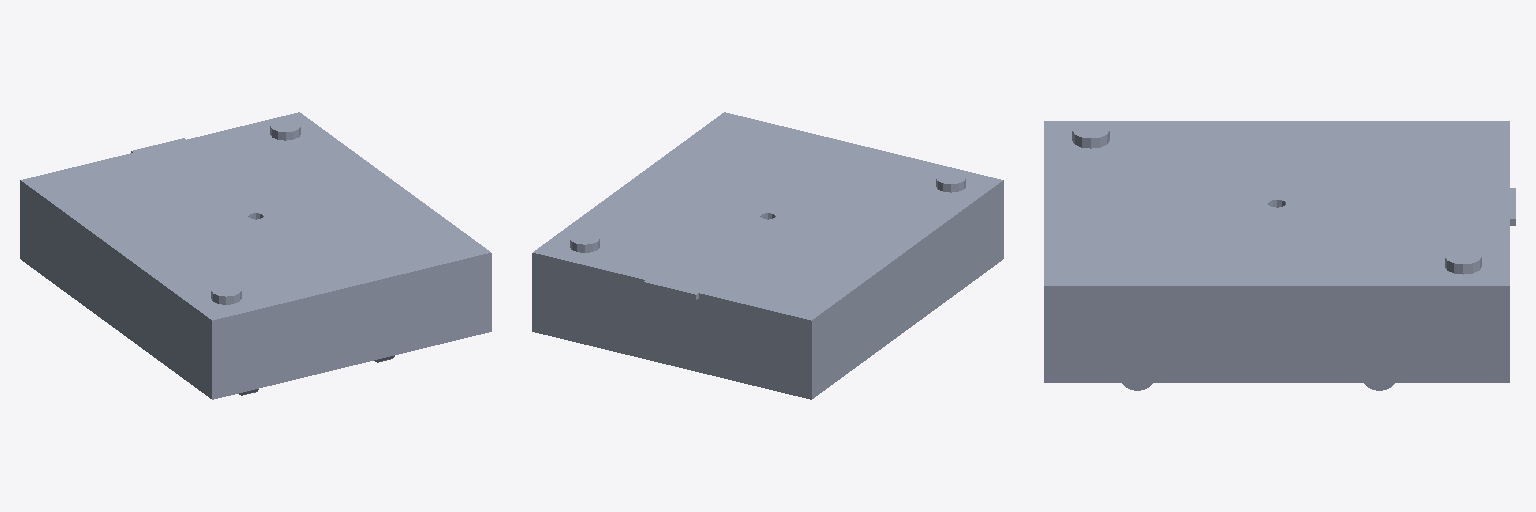
robot.urdf — agv_urdf_test:
<?xml version="1.0" encoding="utf-8"?>
<!-- This URDF was automatically created by SolidWorks to URDF Exporter! Originally created by [author] ([email redacted]) 
     Commit Version: 1.5.1-0-g916b5db  Build Version: 1.5.7152.31018
     For more information, please see http://wiki.ros.org/sw_urdf_exporter -->
<robot
  name="agv_urdf_test">
  <link
    name="base_footprint">
  </link>


  <link
    name="base_link">
    <inertial>
      <origin
        xyz="-5.5511E-17 0.00010136 -0.14206"
        rpy="0 0 0" />
      <mass
        value="1008.2" />
      <inertia
        ixx="138.54"
        ixy="-0.25447"
        ixz="-6.9968E-15"
        iyy="99.715"
        iyz="-0.013495"
        izz="224.59" />
    </inertial>
    <visual>
      <origin
        xyz="0 0 0"
        rpy="0 0 0" />
      <geometry>
        <mesh
          filename="package://agv_urdf_test/meshes/base_link.STL" />
      </geometry>
      <material
        name="">
        <color
          rgba="0.66667 0.69804 0.76863 1" />
      </material>
    </visual>
    <collision>
      <origin
        xyz="0 0 0"
        rpy="0 0 0" />
      <geometry>
        <mesh
          filename="package://agv_urdf_test/meshes/base_link.STL" />
      </geometry>
    </collision>
  </link>

  <joint
    name="foot2base"
    type="fixed">
    <origin
      xyz="0 0 0.424"
      rpy="0 0 0" />
    <parent
      link="base_footprint" />
    <child
      link="base_link" />
  </joint>


  <link
    name="link_turn_1">
    <inertial>
      <origin
        xyz="0 -0.00754548277678047 -0.0213159751755339"
        rpy="0 0 0" />
      <mass
        value="1.47494740855069" />
      <inertia
        ixx="0.00254146137858192"
        ixy="-4.23346898216741E-19"
        ixz="-8.68618256384801E-19"
        iyy="0.00245958671333262"
        iyz="-0.000636770311897843"
        izz="0.00210254911295901" />
    </inertial>
    <visual>
      <origin
        xyz="0 0 0"
        rpy="0 0 0" />
      <geometry>
        <mesh
          filename="package://agv_urdf_test/meshes/link_turn_1.STL" />
      </geometry>
      <material
        name="">
        <color
          rgba="0.666666666666667 0.698039215686274 0.768627450980392 1" />
      </material>
    </visual>
    <collision>
      <origin
        xyz="0 0 0"
        rpy="0 0 0" />
      <geometry>
        <mesh
          filename="package://agv_urdf_test/meshes/link_turn_1.STL" />
      </geometry>
    </collision>
  </link>
  <joint
    name="joint_turn_1"
    type="revolute">
    <origin
      xyz="0.255 0.325 -0.285"
      rpy="0 0 0" />
    <parent
      link="base_link" />
    <child
      link="link_turn_1" />
    <axis
      xyz="0 0 1" />
    <limit
      lower="-6.28"
      upper="6.28"
      effort="3"
      velocity="4" />
  </joint>
  <link
    name="link_wheel_1">
    <inertial>
      <origin
        xyz="0 0 -5.55111512312578E-17"
        rpy="0 0 0" />
      <mass
        value="1.01787601976309" />
      <inertia
        ixx="0.000873676916963323"
        ixy="-1.06033568536788E-21"
        ixz="-1.33407689192552E-20"
        iyy="0.000873676916963323"
        iyz="1.15391695451149E-22"
        izz="0.00132323882569202" />
    </inertial>
    <visual>
      <origin
        xyz="0 0 0"
        rpy="0 0 0" />
      <geometry>
        <mesh
          filename="package://agv_urdf_test/meshes/link_wheel_1.STL" />
      </geometry>
      <material
        name="">
        <color
          rgba="0.666666666666667 0.698039215686274 0.768627450980392 1" />
      </material>
    </visual>
    <collision>
      <origin
        xyz="0 0 0"
        rpy="0 0 0" />
      <geometry>
        <mesh
          filename="package://agv_urdf_test/meshes/link_wheel_1.STL" />
      </geometry>
    </collision>
  </link>
  <joint
    name="joint_wheel_1"
    type="continuous">
    <origin
      xyz="0 -0.05 -0.089"
      rpy="3.1416 -1.5708 0" />
    <parent
      link="link_turn_1" />
    <child
      link="link_wheel_1" />
    <axis
      xyz="0 0 1" />
  </joint>


  <link
    name="link_turn_2">
    <inertial>
      <origin
        xyz="-2.77555756156289E-17 -0.00754548277678047 -0.0213159751755338"
        rpy="0 0 0" />
      <mass
        value="1.47494740855068" />
      <inertia
        ixx="0.00254146137858192"
        ixy="-9.71710559422037E-20"
        ixz="-1.22074755057763E-19"
        iyy="0.00245958671333262"
        iyz="-0.000636770311897842"
        izz="0.00210254911295901" />
    </inertial>
    <visual>
      <origin
        xyz="0 0 0"
        rpy="0 0 0" />
      <geometry>
        <mesh
          filename="package://agv_urdf_test/meshes/link_turn_2.STL" />
      </geometry>
      <material
        name="">
        <color
          rgba="0.666666666666667 0.698039215686274 0.768627450980392 1" />
      </material>
    </visual>
    <collision>
      <origin
        xyz="0 0 0"
        rpy="0 0 0" />
      <geometry>
        <mesh
          filename="package://agv_urdf_test/meshes/link_turn_2.STL" />
      </geometry>
    </collision>
  </link>


  <joint
    name="joint_turn_2"
    type="continuous">
    <origin
      xyz="-0.255 0.325 -0.285"
      rpy="0 0 0" />
    <parent
      link="base_link" />
    <child
      link="link_turn_2" />
    <axis
      xyz="0 0 1" />

  </joint>


  <link
    name="link_wheel_2">
    <inertial>
      <origin
        xyz="0 0 -2.77555756156289E-17"
        rpy="0 0 0" />
      <mass
        value="1.01787601976309" />
      <inertia
        ixx="0.000873676916963321"
        ixy="-1.73372789316957E-35"
        ixz="2.99880353866197E-20"
        iyy="0.000873676916963321"
        iyz="-8.17599343235721E-21"
        izz="0.00132323882569202" />
    </inertial>
    <visual>
      <origin
        xyz="0 0 0"
        rpy="0 0 0" />
      <geometry>
        <mesh
          filename="package://agv_urdf_test/meshes/link_wheel_2.STL" />
      </geometry>
      <material
        name="">
        <color
          rgba="0.666666666666667 0.698039215686274 0.768627450980392 1" />
      </material>
    </visual>
    <collision>
      <origin
        xyz="0 0 0"
        rpy="0 0 0" />
      <geometry>
        <mesh
          filename="package://agv_urdf_test/meshes/link_wheel_2.STL" />
      </geometry>
    </collision>
  </link>


  <joint
    name="joint_wheel_2"
    type="continuous">
    <origin
      xyz="0 -0.05 -0.089"
      rpy="3.1416 -1.5708 0" />
    <parent
      link="link_turn_2" />
    <child
      link="link_wheel_2" />
    <axis
      xyz="0 0 1" />
  </joint>


  <link
    name="link_turn_3">
    <inertial>
      <origin
        xyz="2.77555756156289E-17 -0.00754548277678041 -0.0213159751755339"
        rpy="0 0 0" />
      <mass
        value="1.47494740855069" />
      <inertia
        ixx="0.00254146137858192"
        ixy="-7.22413476028742E-20"
        ixz="-3.56292043880931E-19"
        iyy="0.00245958671333263"
        iyz="-0.000636770311897843"
        izz="0.00210254911295901" />
    </inertial>
    <visual>
      <origin
        xyz="0 0 0"
        rpy="0 0 0" />
      <geometry>
        <mesh
          filename="package://agv_urdf_test/meshes/link_turn_3.STL" />
      </geometry>
      <material
        name="">
        <color
          rgba="0.666666666666667 0.698039215686274 0.768627450980392 1" />
      </material>
    </visual>
    <collision>
      <origin
        xyz="0 0 0"
        rpy="0 0 0" />
      <geometry>
        <mesh
          filename="package://agv_urdf_test/meshes/link_turn_3.STL" />
      </geometry>
    </collision>
  </link>


  <joint
    name="joint_turn_3"
    type="revolute">
    <origin
      xyz="-0.255 -0.325 -0.285"
      rpy="0 0 0" />
    <parent
      link="base_link" />
    <child
      link="link_turn_3" />
    <axis
      xyz="0 0 1" />
    <limit
      lower="-6.28"
      upper="6.28"
      effort="3"
      velocity="4" />
  </joint>


  <link
    name="link_wheel_3">
    <inertial>
      <origin
        xyz="-2.77555756156289E-17 -5.55111512312578E-17 0"
        rpy="0 0 0" />
      <mass
        value="1.01787601976309" />
      <inertia
        ixx="0.000873676916963321"
        ixy="2.18468823661567E-35"
        ixz="-3.09409474522808E-20"
        iyy="0.000873676916963321"
        iyz="1.41258674169349E-20"
        izz="0.00132323882569202" />
    </inertial>
    <visual>
      <origin
        xyz="0 0 0"
        rpy="0 0 0" />
      <geometry>
        <mesh
          filename="package://agv_urdf_test/meshes/link_wheel_3.STL" />
      </geometry>
      <material
        name="">
        <color
          rgba="0.666666666666667 0.698039215686274 0.768627450980392 1" />
      </material>
    </visual>
    <collision>
      <origin
        xyz="0 0 0"
        rpy="0 0 0" />
      <geometry>
        <mesh
          filename="package://agv_urdf_test/meshes/link_wheel_3.STL" />
      </geometry>
    </collision>
  </link>


  <joint
    name="joint_wheel_3"
    type="continuous">
    <origin
      xyz="0 -0.05 -0.089"
      rpy="3.1416 -1.5708 0" />
    <parent
      link="link_turn_3" />
    <child
      link="link_wheel_3" />
    <axis
      xyz="0 0 1" />
  </joint>
  <link
    name="link_turn_4">
    <inertial>
      <origin
        xyz="-5.55111512312578E-17 -0.00754548277678041 -0.0213159751755338"
        rpy="0 0 0" />
      <mass
        value="1.47494740855068" />
      <inertia
        ixx="0.00254146137858191"
        ixy="-2.62093789241471E-19"
        ixz="-5.85418017498676E-19"
        iyy="0.00245958671333262"
        iyz="-0.000636770311897841"
        izz="0.00210254911295901" />
    </inertial>
    <visual>
      <origin
        xyz="0 0 0"
        rpy="0 0 0" />
      <geometry>
        <mesh
          filename="package://agv_urdf_test/meshes/link_turn_4.STL" />
      </geometry>
      <material
        name="">
        <color
          rgba="0.666666666666667 0.698039215686274 0.768627450980392 1" />
      </material>
    </visual>
    <collision>
      <origin
        xyz="0 0 0"
        rpy="0 0 0" />
      <geometry>
        <mesh
          filename="package://agv_urdf_test/meshes/link_turn_4.STL" />
      </geometry>
    </collision>
  </link>


  <joint
    name="joint_turn_4"
    type="continuous">
    <origin
      xyz="0.255 -0.325 -0.285"
      rpy="0 0 0" />
    <parent
      link="base_link" />
    <child
      link="link_turn_4" />
    <axis
      xyz="0 0 1" />

  </joint>


  <link
    name="link_wheel_4">
    <inertial>
      <origin
        xyz="2.77555756156289E-17 5.55111512312578E-17 6.66133814775094E-16"
        rpy="0 0 0" />
      <mass
        value="1.01787601976309" />
      <inertia
        ixx="0.000873676916963323"
        ixy="8.09870282638803E-39"
        ixz="2.56966349121739E-20"
        iyy="0.000873676916963323"
        iyz="-2.66366335959442E-36"
        izz="0.00132323882569202" />
    </inertial>
    <visual>
      <origin
        xyz="0 0 0"
        rpy="0 0 0" />
      <geometry>
        <mesh
          filename="package://agv_urdf_test/meshes/link_wheel_4.STL" />
      </geometry>
      <material
        name="">
        <color
          rgba="0.666666666666667 0.698039215686274 0.768627450980392 1" />
      </material>
    </visual>
    <collision>
      <origin
        xyz="0 0 0"
        rpy="0 0 0" />
      <geometry>
        <mesh
          filename="package://agv_urdf_test/meshes/link_wheel_4.STL" />
      </geometry>
    </collision>
  </link>


  <joint
    name="joint_wheel_4"
    type="continuous">
    <origin
      xyz="0 -0.05 -0.089"
      rpy="3.1416 -1.5708 0" />
    <parent
      link="link_turn_4" />
    <child
      link="link_wheel_4" />
    <axis
      xyz="0 0 1" />
  </joint>


  <link
    name="link_laser_1">
  </link>

  <joint
    name="joint_laser_1"
    type="fixed">
    <origin
      xyz="0.4 0.5 0.03"
      rpy="0 0 1.5708" />
    <parent
      link="base_link" />
    <child
      link="link_laser_1" />
  </joint>

  <link
    name="link_laser_2">
  </link>
  <joint
    name="joint_laser_2"
    type="fixed">
    <origin
      xyz="-0.4 -0.5 0.03"
      rpy="0 0 1.5708" />
    <parent
      link="base_link" />
    <child
      link="link_laser_2" />
  </joint>


  <link
    name="link_camera">
  </link>

  <link name="camera_link_fake">
  </link>



  <joint
    name="joint_camera"
    type="fixed">
    <origin
      xyz="0 0.64 -0.01"
      rpy="0 0 1.5708" />
    <parent
      link="base_link" />
    <child
      link="link_camera" />
  </joint>

  <joint name="camera_joint_fake" type="fixed">
    <origin xyz="0 0 0" rpy="-1.5708 0 -1.5708 "/>
    <parent link="link_camera"/>
    <child link="camera_link_fake"/>
  </joint>

  <gazebo>
    <plugin name="gazebo_ros_control" filename="libgazebo_ros_control.so">
      <robotNamespace>/agv_sim</robotNamespace>
    </plugin>
  </gazebo>




  <gazebo>
    <plugin name="base_controller" filename="libgazebo_ros_planar_move.so">
      <commandTopic>/cmd_vel</commandTopic>
      <odometryTopic>odom</odometryTopic>
      <odometryFrame>odom</odometryFrame>
      <odometryRate>20.0</odometryRate>
      <robotBaseFrame>base_footprint</robotBaseFrame>
    </plugin>
  </gazebo>



  <gazebo reference="link_camera">
    <sensor type="depth" name="kinect_camera">
      <always_on>true</always_on>
      <update_rate>20.0</update_rate>
      <camera>
        <horizontal_fov>1.0472</horizontal_fov>
        <image>
          <format>R8G8B8</format>
          <width>640</width>
          <height>480</height>
        </image>
        <clip>
          <near>0.5</near>
          <far>8.0</far>
        </clip>
  </camera>



  <plugin name="kinect_camera_controller" filename="libgazebo_ros_openni_kinect.so">
    <cameraName>/kinect_camera</cameraName>
    <alwaysOn>true</alwaysOn>
    <updateRate>10</updateRate>
    <imageTopicName>rgb/image_raw</imageTopicName>
    <depthImageTopicName>depth/image_raw</depthImageTopicName>
    <pointCloudTopicName>depth/points</pointCloudTopicName>
    <cameraInfoTopicName>rgb/camera_info</cameraInfoTopicName>
    <depthImageCameraInfoTopicName>depth/camera_info</depthImageCameraInfoTopicName>
    <frameName>camera_link_fake</frameName>
    <baseline>0.1</baseline>
    <distortion_k1>0.0</distortion_k1>
    <distortion_k2>0.0</distortion_k2>
    <distortion_k3>0.0</distortion_k3>
    <distortion_t1>0.0</distortion_t1>
    <distortion_t2>0.0</distortion_t2>
    <pointCloudCutoff>0.4</pointCloudCutoff>
  </plugin>
</sensor>
</gazebo>




<gazebo reference="link_laser_1">
  <sensor type="ray" name="rplidar_sensor1">
    <pose>0 0 0 0 0 0</pose>
    <visualize>true</visualize>
    <update_rate>15</update_rate>
    <ray>
      <scan>
        <horizontal>
          <samples>1400</samples>
          <resolution>1</resolution>
          <!--min_angle>-1.570796</min_angle>
          <max_angle>1.570796</max_angle-->
          <min_angle>-3.14</min_angle>
          <max_angle>1.57</max_angle>
        </horizontal>
      </scan>
      <range>
        <min>0.2</min>
        <max>15.0</max>
        <resolution>0.002</resolution>
      </range>
      <noise>
        <type>gaussian</type>
        <!-- Noise parameters based on published spec for Hokuyo laser
             achieving "+-30mm" accuracy at range < 10m.  A mean of 0.0m and
             stddev of 0.01m will put 99.7% of samples within 0.03m of the true
             reading. -->
        <mean>0.0</mean>
        <stddev>0.01</stddev>
      </noise>
    </ray>
    <plugin name="gazebo_ros_head_hokuyo_controller" filename="libgazebo_ros_laser.so">
      <topicName>/scan1</topicName>
      <frameName>link_laser_1</frameName>
    </plugin>
  </sensor>
</gazebo>


<gazebo reference="link_laser_2">
  <sensor type="ray" name="rplidar_sensor2">
    <pose>0 0 0 0 0 0</pose>
    <visualize>true</visualize>
    <update_rate>15</update_rate>
    <ray>
      <scan>
        <horizontal>
          <samples>1400</samples>
          <resolution>1</resolution>
          <!--min_angle>-1.570796</min_angle>
          <max_angle>1.570796</max_angle-->
          <min_angle>0</min_angle>
          <max_angle>4.71</max_angle>
        </horizontal>
      </scan>
      <range>
        <min>0.2</min>
        <max>15.0</max>
        <resolution>0.002</resolution>
      </range>
      <noise>
        <type>gaussian</type>
        <!-- Noise parameters based on published spec for Hokuyo laser
             achieving "+-30mm" accuracy at range < 10m.  A mean of 0.0m and
             stddev of 0.01m will put 99.7% of samples within 0.03m of the true
             reading. -->
        <mean>0.0</mean>
        <stddev>0.01</stddev>
      </noise>
    </ray>
    <plugin name="gazebo_ros_head_hokuyo_controller" filename="libgazebo_ros_laser.so">
      <topicName>/scan2</topicName>
      <frameName>link_laser_2</frameName>
    </plugin>
  </sensor>
</gazebo>


<transmission name="tran_turn1">
  <type>transmission_interface/SimpleTransmission</type>
    <joint name="joint_turn_1">
      <hardwareInterface>hardware_interface/VelocityJointInterface</hardwareInterface>
    </joint>
    <actuator name="motorturn1">
      <hardwareInterface>hardware_interface/VelocityJointInterface</hardwareInterface>
      <mechanicalReduction>1</mechanicalReduction>
    </actuator>
</transmission>

<transmission name="tran_turn2">
  <type>transmission_interface/SimpleTransmission</type>
    <joint name="joint_turn_3">
      <hardwareInterface>hardware_interface/VelocityJointInterface</hardwareInterface>
    </joint>
    <actuator name="motorturn2">
      <hardwareInterface>hardware_interface/VelocityJointInterface</hardwareInterface>
      <mechanicalReduction>1</mechanicalReduction>
    </actuator>
</transmission>



<transmission name="tran_wheel1">
  <type>transmission_interface/SimpleTransmission</type>
    <joint name="joint_wheel_1">
      <hardwareInterface>hardware_interface/VelocityJointInterface</hardwareInterface>
    </joint>
    <actuator name="motorwheel1">
      <hardwareInterface>hardware_interface/VelocityJointInterface</hardwareInterface>
      <mechanicalReduction>1</mechanicalReduction>
    </actuator>
</transmission>

<transmission name="tran_wheel2">
  <type>transmission_interface/SimpleTransmission</type>
    <joint name="joint_wheel_3">
      <hardwareInterface>hardware_interface/VelocityJointInterface</hardwareInterface>
    </joint>
    <actuator name="motorwheel2">
      <hardwareInterface>hardware_interface/VelocityJointInterface</hardwareInterface>
      <mechanicalReduction>1</mechanicalReduction>
    </actuator>
</transmission>







</robot>

--- Render facts (derived) ---
3 views of the same robot in one strip: view 1: azimuth 30°, elevation 25°; view 2: azimuth 150°, elevation 25°; view 3: azimuth 270°, elevation 25° (orthographic).
Model agv_urdf_test with 14 links and 13 joints (2 revolute, 6 continuous, 5 fixed), rooted at base_footprint, posed all joints at 0.
Visible links, largest first — view 1: base_link; view 2: base_link; view 3: base_link.
Link boxes in pixels (bbox=[...]): base_link: bbox=[20, 112, 491, 399]; base_link: bbox=[532, 112, 1003, 399]; base_link: bbox=[1044, 121, 1515, 382].
Bounding box of the posed robot: 1.05 × 1.26 × 0.454 m (x, y, z).
8 mesh visuals loaded from 9 distinct referenced files (8 binary STL); not drawn: 1 (reference not matched to a file when rendering).
